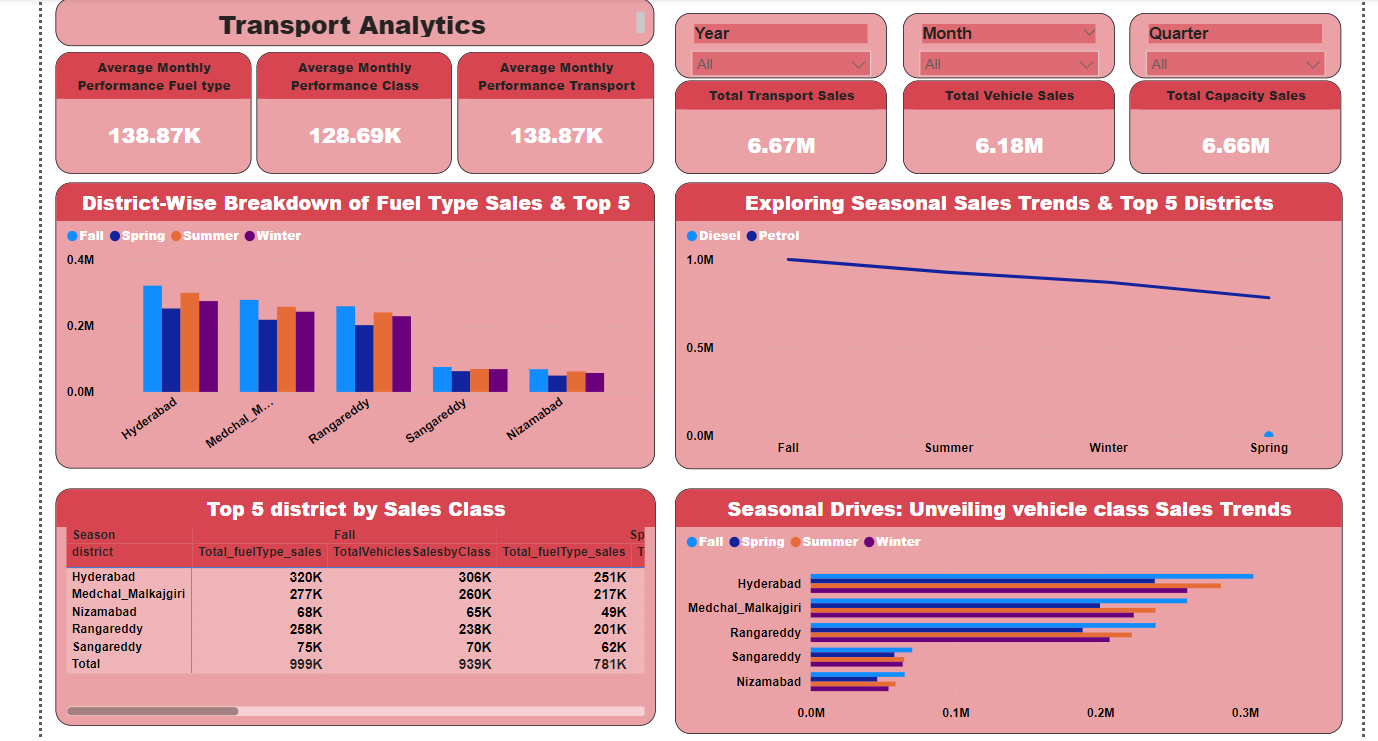

What the dashboard file says about the page in this screenshot:
{"tool":"powerbi","page":{"name":"Transport","canvas":[1280,720],"ordinal":1},"visuals":[{"type":"pivotTable","title":"Top 5 district by Sales Class","fields":{"Columns":["fact_transport.Season"],"Values":["Key_Measures.Total_fuelType_sales","Key_Measures.TotalVehiclesbyClass"],"Rows":["dim_districts.district"]},"box":[22.7,475.8,572,230.3],"z":0},{"type":"clusteredColumnChart","title":"District-Wise Breakdown of Fuel Type Sales & Top 5 ","fields":{"Y":["Key_Measures.Total_fuelType_sales"],"Category":["dim_districts.district"],"Series":["fact_transport.Season"]},"box":[13.2,179.4,581.5,277.5],"z":1000},{"type":"lineChart","title":"Exploring Seasonal Sales Trends & Top 5 Districts","fields":{"Y":["Key_Measures.Total_fuelType_sales"],"Category":["fact_transport.Season"],"Series":["fact_transport.fuel_type"]},"box":[613.2,179.6,647.2,278.3],"z":2000},{"type":"clusteredBarChart","title":"Seasonal Drives: Unveiling vehicle class Sales Trends","fields":{"Category":["dim_districts.district"],"Y":["Key_Measures.TotalVehiclesbyClass"],"Series":["fact_transport.Season"]},"box":[613.6,475.8,647.6,237.9],"z":3000},{"type":"slicer","title":"Quater","fields":{"Values":["dim_date.month.Variation.Date Hierarchy.Quarter"]},"box":[1054.9,14.6,205.5,63.1],"z":4000},{"type":"slicer","title":"Quater","fields":{"Values":["dim_date.month.Variation.Date Hierarchy.Month"]},"box":[834.9,14.6,205.5,63.1],"z":5000},{"type":"slicer","title":"Quater","fields":{"Values":["dim_date.fiscal_year"]},"box":[613.2,14.6,205.5,63.1],"z":6000},{"type":"cardVisual","title":"Average Monthly Performance Fuel type","fields":{"Data":["Key_Measures.Average Total Sales per Month"]},"box":[12.9,51.8,190,118.1],"z":7000},{"type":"cardVisual","title":"Average Monthly Performance Class ","fields":{"Data":["Key_Measures.Average Total class Sales per Month"]},"box":[208.7,51.8,189.3,118.1],"z":8000},{"type":"cardVisual","title":"Average Monthly Performance Transport","fields":{"Data":["Key_Measures.Average Total transport per Month"]},"box":[402.9,51.8,190.9,118.1],"z":9000},{"type":"cardVisual","title":"Total Transport Sales","fields":{"Data":["Key_Measures.TotalTransportSales"]},"box":[613.2,79.3,205.5,90.6],"z":10000},{"type":"cardVisual","title":"Total Vehicle Sales","fields":{"Data":["Key_Measures.TotalVehiclesbyClass"]},"box":[834.9,79.3,205.5,90.6],"z":10001},{"type":"cardVisual","title":"Total Capacity Sales","fields":{"Data":["Key_Measures.Total Sales by capacity"]},"box":[1054.9,79.3,205.5,90.6],"z":10002},{"type":"textbox","box":[12.9,0,580.9,46.9],"z":10003}]}

Visuals, with their boxes in screenshot pixels (x1, y1, x2, y2):
"Top 5 district by Sales Class" pivotTable: <box>53,489,653,730</box>
"District-Wise Breakdown of Fuel Type Sales & Top 5 " clusteredColumnChart: <box>43,178,653,469</box>
"Exploring Seasonal Sales Trends & Top 5 Districts" lineChart: <box>672,178,1352,470</box>
"Seasonal Drives: Unveiling vehicle class Sales Trends" clusteredBarChart: <box>673,489,1353,738</box>
"Quater" slicer: <box>1136,5,1352,71</box>
"Quater" slicer: <box>905,5,1121,71</box>
"Quater" slicer: <box>672,5,888,71</box>
"Average Monthly Performance Fuel type" cardVisual: <box>42,44,242,168</box>
"Average Monthly Performance Class " cardVisual: <box>248,44,447,168</box>
"Average Monthly Performance Transport" cardVisual: <box>452,44,652,168</box>
"Total Transport Sales" cardVisual: <box>672,72,888,168</box>
"Total Vehicle Sales" cardVisual: <box>905,72,1121,168</box>
"Total Capacity Sales" cardVisual: <box>1136,72,1352,168</box>
textbox: <box>42,0,652,38</box>
